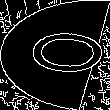O_E: (6, 29, 104, 81)
